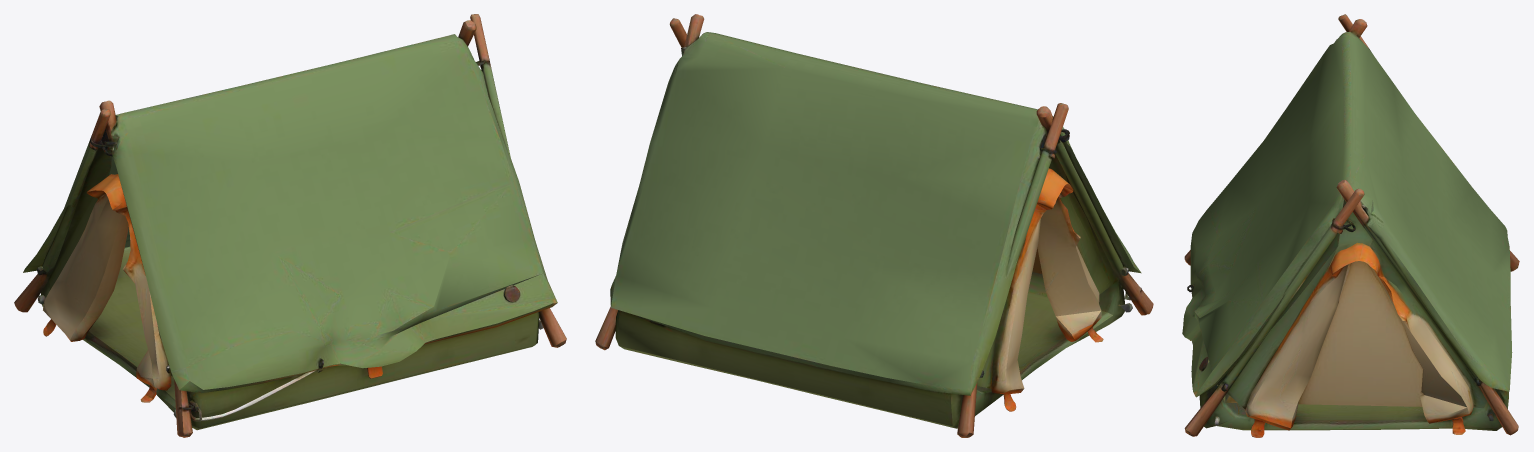
Rendered from tent.glb.
The picture shows the model from 3 angles, left to right: view 1: azimuth 30°, elevation 25°; view 2: azimuth 150°, elevation 25°; view 3: azimuth 270°, elevation 25°; orthographic projection. The views are drawn at different scales.
Visible parts, largest first — view 1: tripo_node_0d5843b6-0291-48ec-8246-99984759093f; view 2: tripo_node_0d5843b6-0291-48ec-8246-99984759093f; view 3: tripo_node_0d5843b6-0291-48ec-8246-99984759093f.
Part boxes in pixels (x1,y1,x2,y2): tripo_node_0d5843b6-0291-48ec-8246-99984759093f: (14,14,566,437); tripo_node_0d5843b6-0291-48ec-8246-99984759093f: (595,14,1153,437); tripo_node_0d5843b6-0291-48ec-8246-99984759093f: (1182,14,1519,437).
Bounding box in the file's own units: 0.998 × 0.6621 × 0.7949.
Materials: 1 (1 with a texture image).
